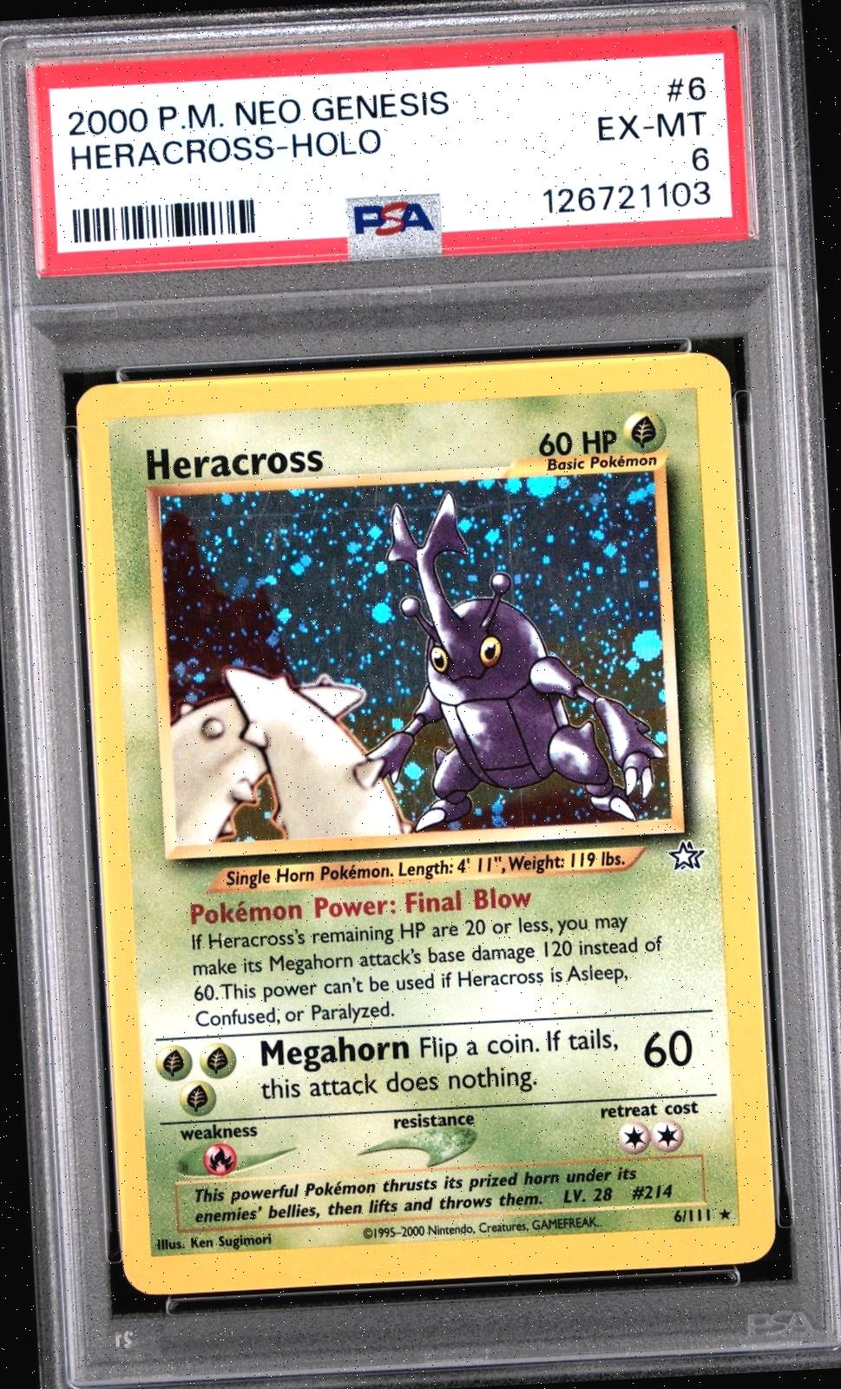card-2UtV: (75, 351, 776, 1296)
